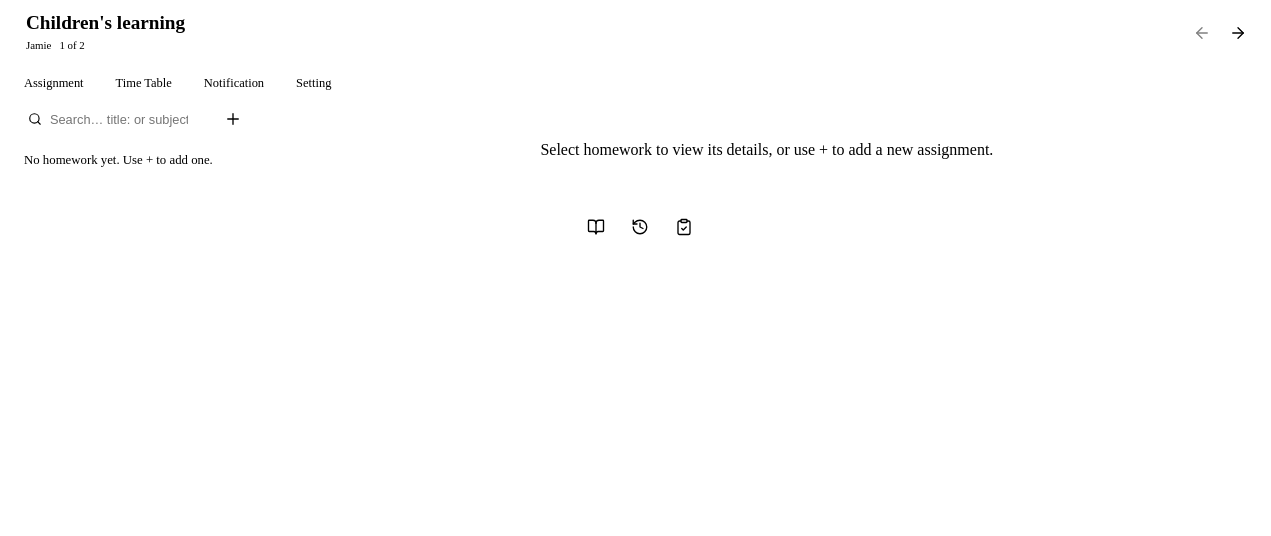
Scenario: switches children with the header arrows and keeps tabs keyboard accessible
Expected: the text "Jamie" is shown, [26,37,51,53]
Expected: the button named "Previous child" is disabled, [1186,22,1218,44]
Step 1. Click the button named "Next child" → (1238, 33), box [1222,22,1254,44]
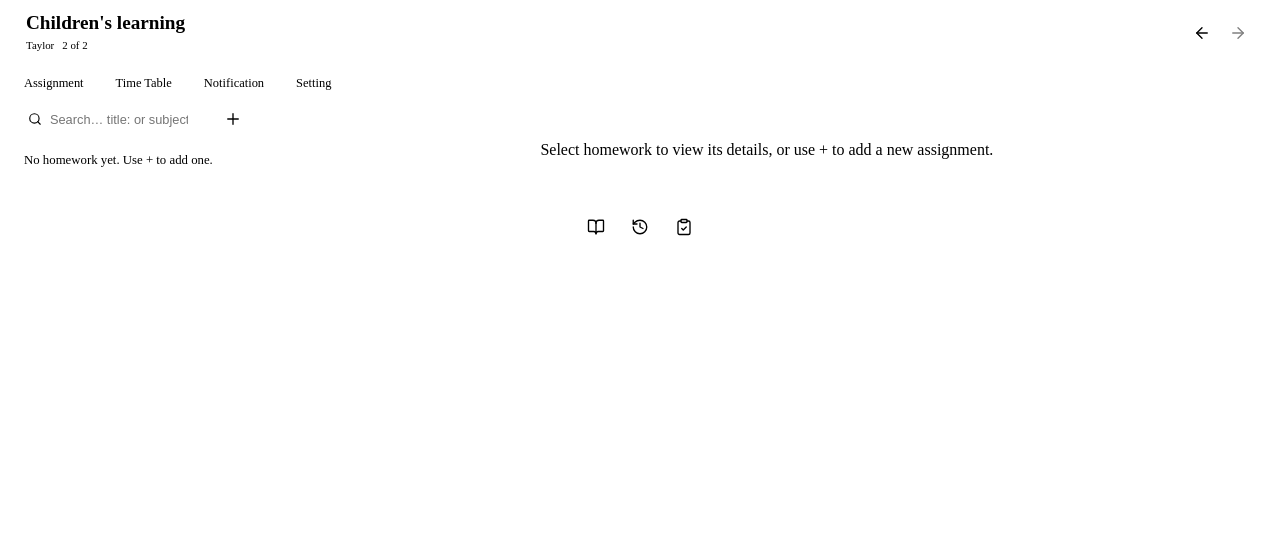
Expected: the text "Taylor" is shown, [26,37,54,53]
Expected: the button named "Next child" is disabled, [1222,22,1254,44]
Step 2. Press ArrowRight in the tab "Assignment", box [8,65,100,101]
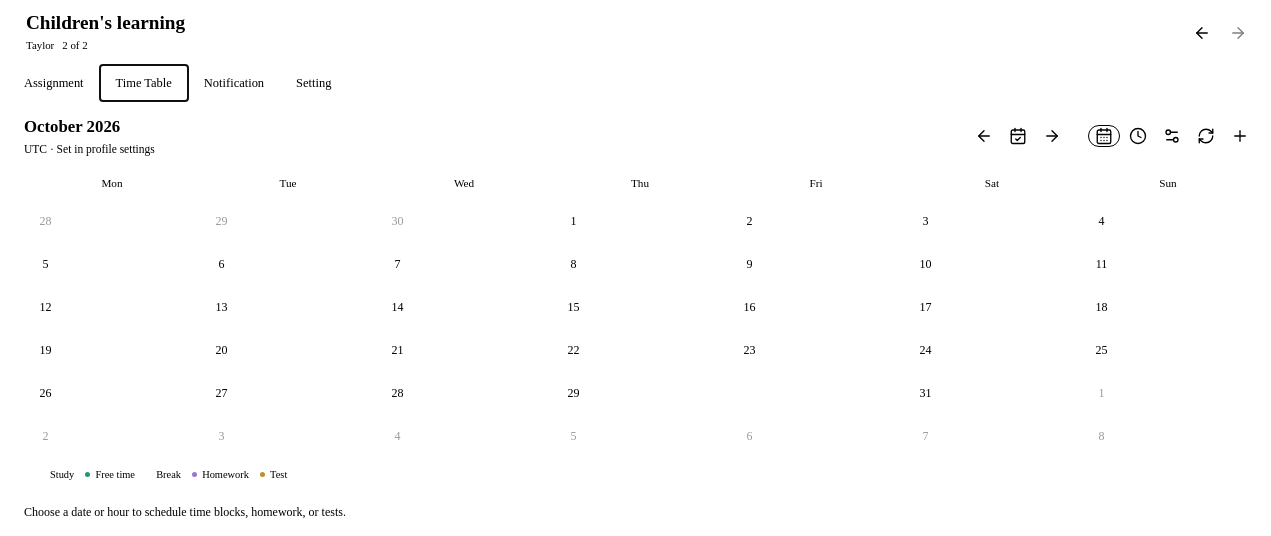
Step 3. Click the button named "Previous child" → (1202, 33), box [1186,22,1218,44]
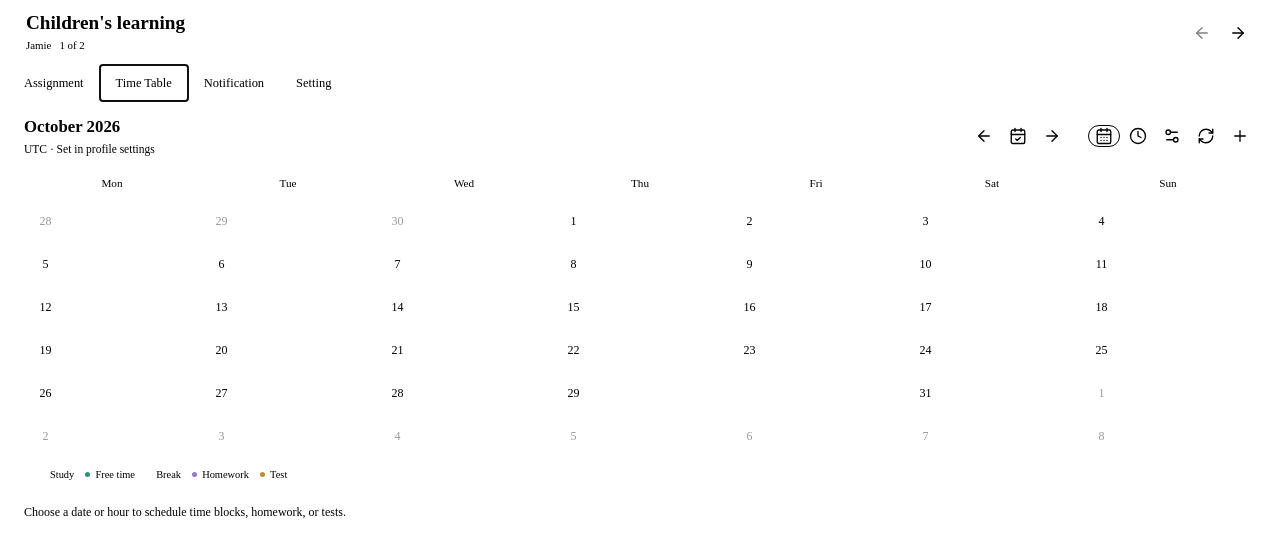
Expected: the text "Jamie" is shown, [26,37,51,53]
